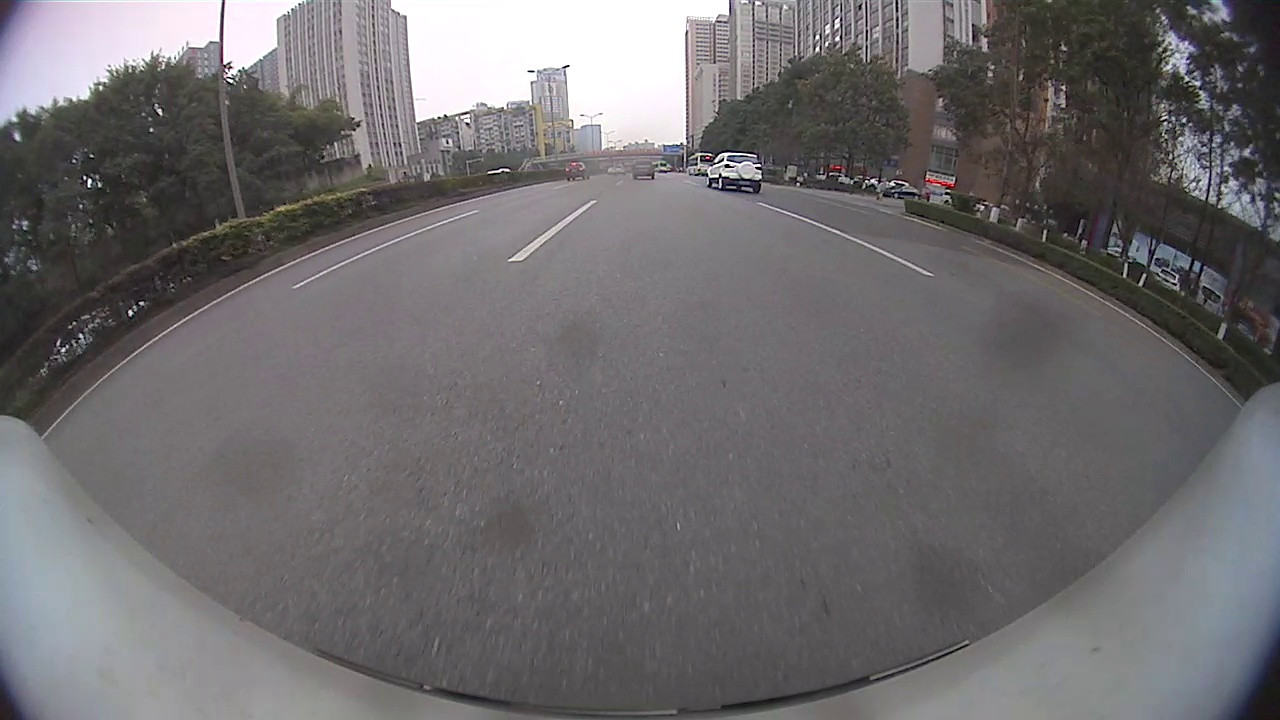bus: (687, 153, 715, 176)
car: (707, 152, 762, 194), (564, 161, 589, 181), (631, 160, 655, 179)
rear: (716, 175, 728, 193)
